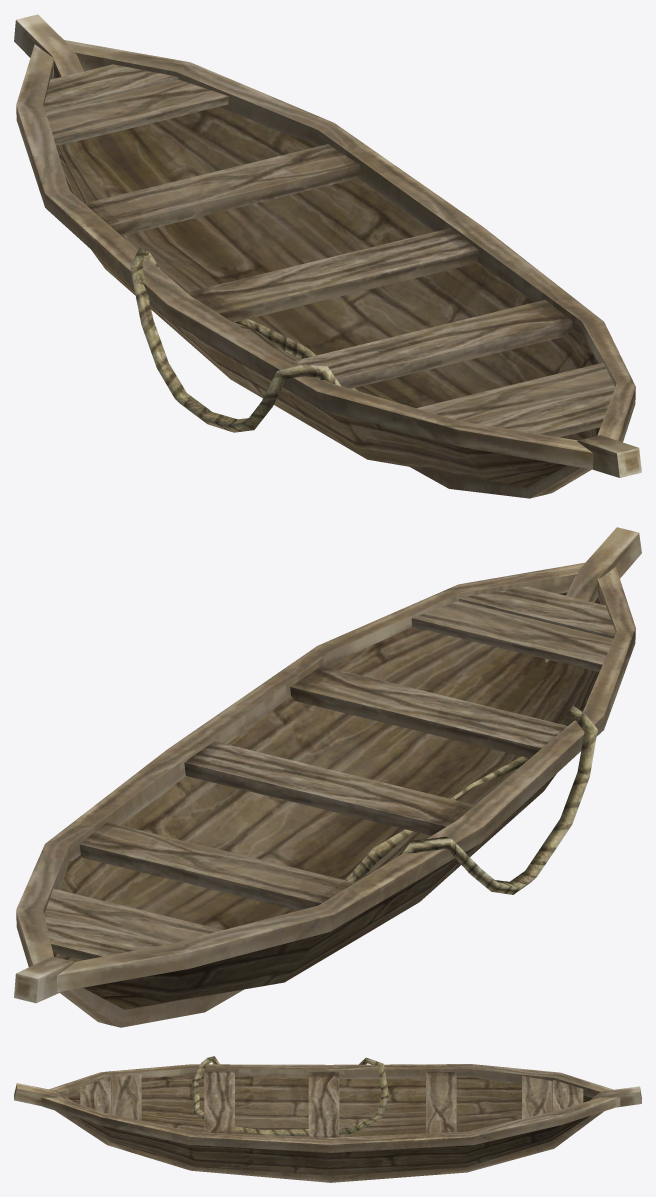
The model's file is SC_HDchuan02.FBX.
3 views of the same model, one above another, from view 1: azimuth 30°, elevation 25°; view 2: azimuth 150°, elevation 25°; view 3: azimuth 270°, elevation 25° (orthographic). The views are drawn at different scales.
Visible parts, largest first — view 1: SC_HDchuan02; view 2: SC_HDchuan02; view 3: SC_HDchuan02.
Part boxes in pixels (box(x1,y1,x2,y2)): SC_HDchuan02: box(14, 14, 641, 498); SC_HDchuan02: box(14, 527, 641, 1027); SC_HDchuan02: box(14, 1056, 641, 1182).
Size of the model in its own units: 2.13 by 1.12 by 6.76.
